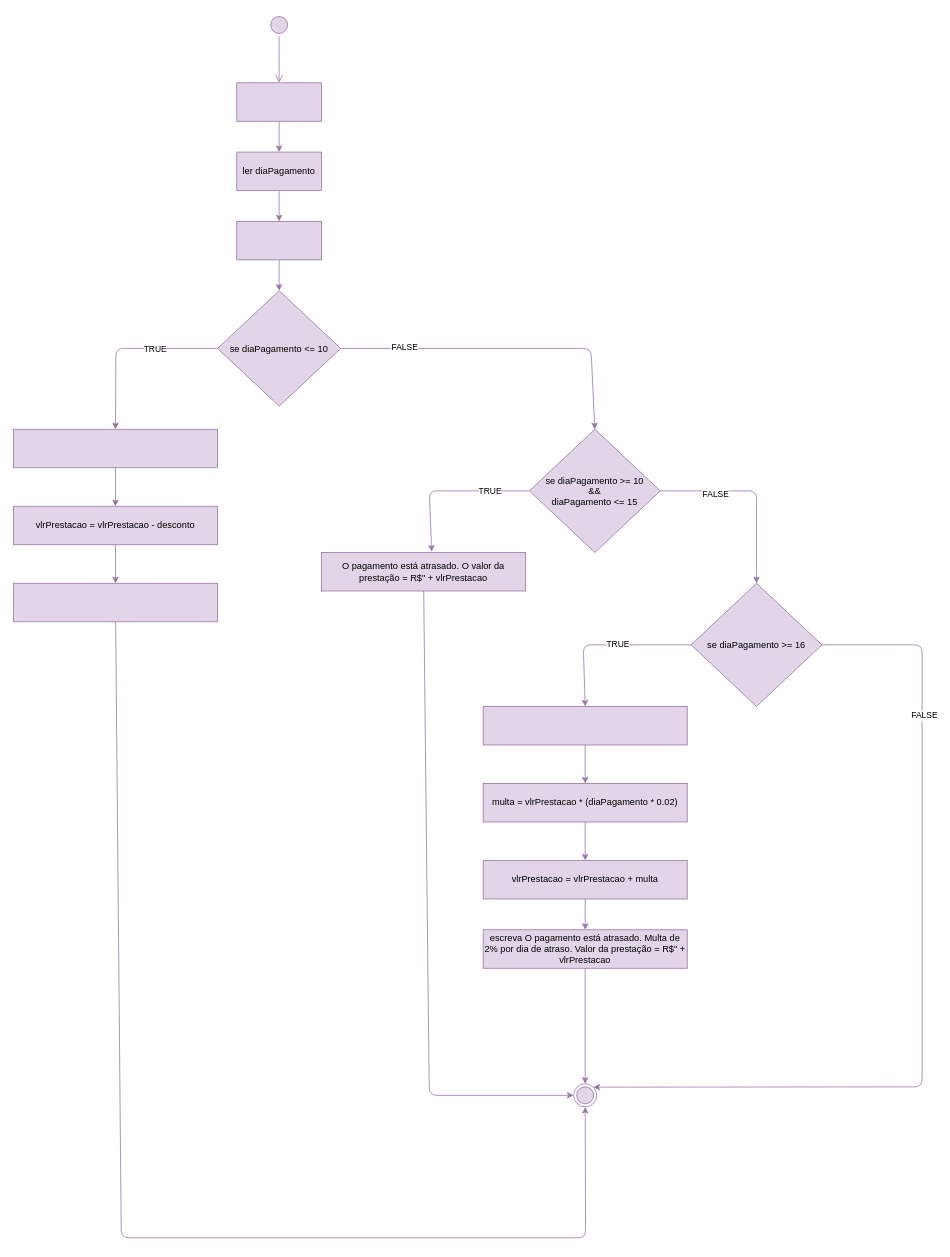
Some shapes in this 950 by 1257 pixel diagram are drawn without their labels. Here are the shapes that lost their labels. From the top down, the box of each, then its label:
(236, 82, 321, 121): ler diaVencimento
(236, 221, 321, 260): ler vlrPrestacao
(13, 429, 218, 468): desconto = vlrPrestacao * 0.10f
(13, 583, 218, 622): escreva O pagamento está em dia. O valor da prestação = R$" + vlrPrestacao
(482, 706, 687, 745): diaPagamento = diaPagamento - 10
